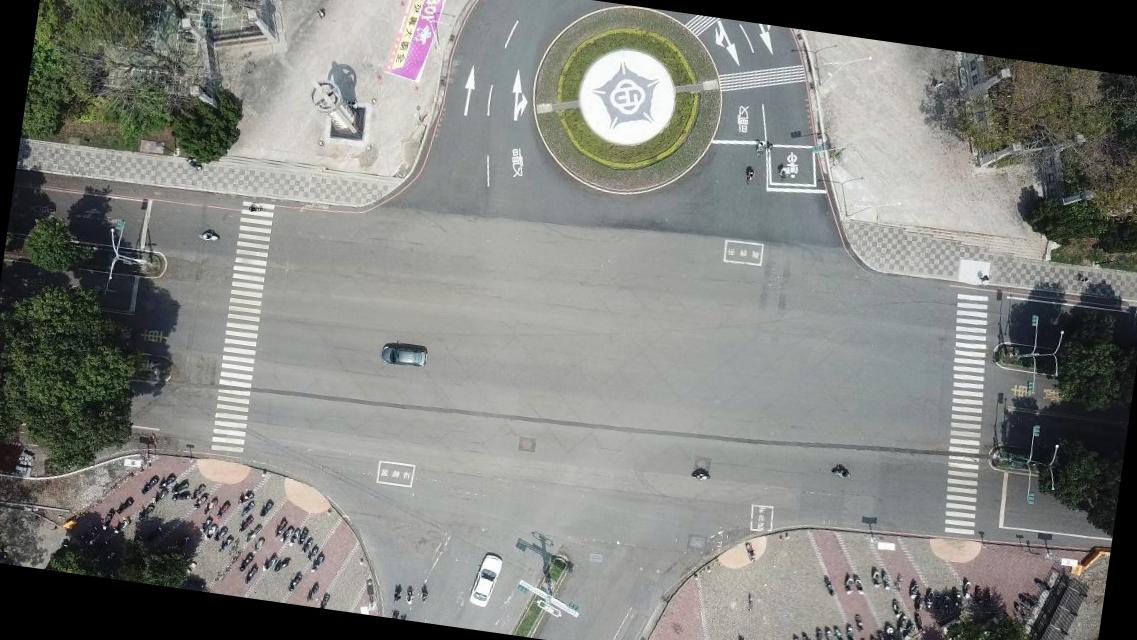vehicle: (467, 550, 505, 611), (379, 340, 430, 370)
